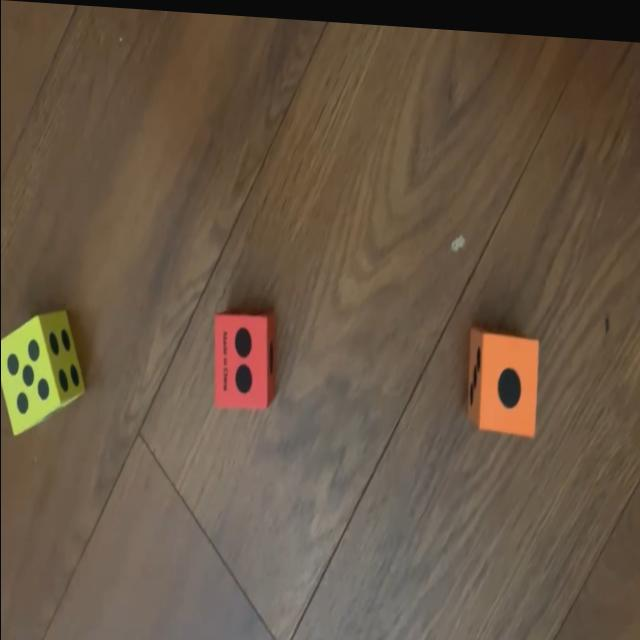cube: (213, 308, 276, 409)
